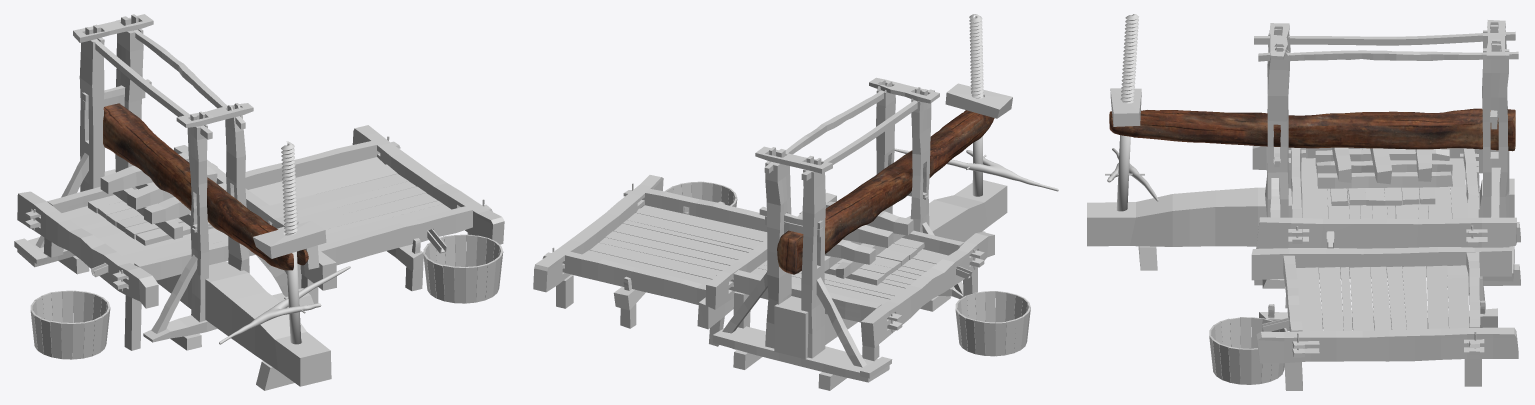
The model's file is lgFutsep.glb.
3 renders of one model, left to right at view 1: azimuth 30°, elevation 25°; view 2: azimuth 150°, elevation 25°; view 3: azimuth 270°, elevation 25°, orthographic. The views are drawn at different scales.
Visible parts, largest first — view 1: futB, futH, poutreAR, poutre1, poutreG, jumelleD2, jumelleG2, poutreD, jumelleG1, jumelleD1, ecrou, poutreG2 (+37 smaller); view 2: futH, futB, poutreAR, jumelleD2, jumelleD1, poutre1, poutreD, semelleD, jumelleG2, poutreG, poutreD2, poutreAV (+30 smaller); view 3: futH, futB, poutre1, poutreAV, poutre3, jumelleD1, jumelleG1, tirant1, tirant2, B1, Plane.006, Plane (+36 smaller).
Boxes of the visible parts, x1,y1,x2,y2 form: futB: [104, 169, 331, 386]; futH: [103, 103, 308, 270]; poutreAR: [17, 191, 158, 308]; poutre1: [352, 125, 504, 244]; poutreG: [318, 204, 492, 265]; jumelleD2: [79, 24, 104, 191]; jumelleG2: [187, 111, 209, 322]; poutreD: [245, 141, 400, 189]; jumelleG1: [225, 103, 249, 273]; jumelleD1: [115, 14, 143, 172]; ecrou: [253, 220, 326, 258]; poutreG2: [112, 226, 284, 289]; futH: [777, 110, 994, 274]; futB: [774, 180, 1007, 359]; poutreAR: [860, 232, 994, 347]; jumelleD2: [801, 155, 825, 358]; jumelleD1: [765, 147, 791, 348]; poutre1: [533, 175, 663, 292]; poutreD: [542, 251, 705, 304]; semelleD: [712, 326, 889, 382]; jumelleG2: [910, 87, 931, 232]; poutreG: [623, 188, 767, 231]; poutreD2: [716, 270, 902, 330]; poutreAV: [705, 193, 836, 309]; futH: [1109, 108, 1515, 151]; futB: [1087, 178, 1514, 246]; poutre1: [1256, 327, 1518, 363]; poutreAV: [1256, 217, 1516, 248]; poutre3: [1251, 247, 1511, 280]; jumelleD1: [1482, 38, 1509, 247]; jumelleG1: [1265, 43, 1288, 217]; tirant1: [1254, 31, 1515, 45]; tirant2: [1258, 50, 1518, 61]; B1: [1317, 171, 1452, 188]; Plane.006: [1402, 266, 1427, 329]; Plane: [1296, 267, 1322, 331].
Size of the model in its own units: 5.84 by 3.12 by 5.04.
1 material, 1 textured.
